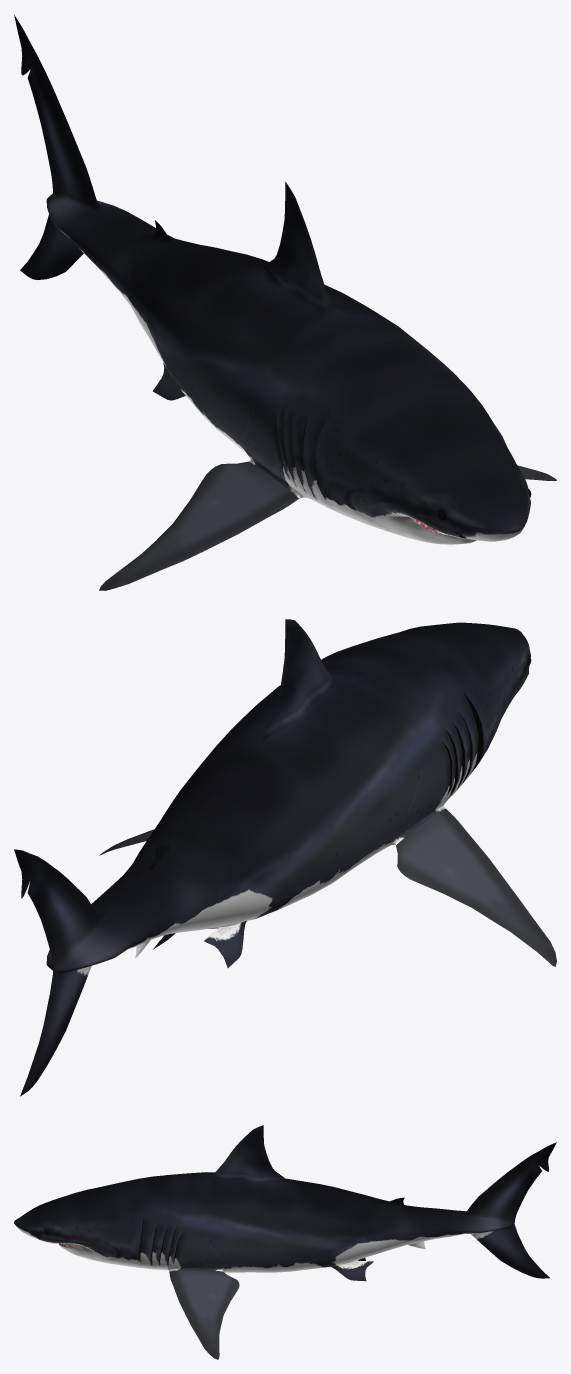
File: Great White Shark.glb
3 renders of one model, top to bottom at view 1: azimuth 30°, elevation 25°; view 2: azimuth 150°, elevation 25°; view 3: azimuth 270°, elevation 25°, orthographic. The views are drawn at different scales.
Bounding box in the file's own units: 3.36 × 2.27 × 6.4.
2 materials, 2 textured.
